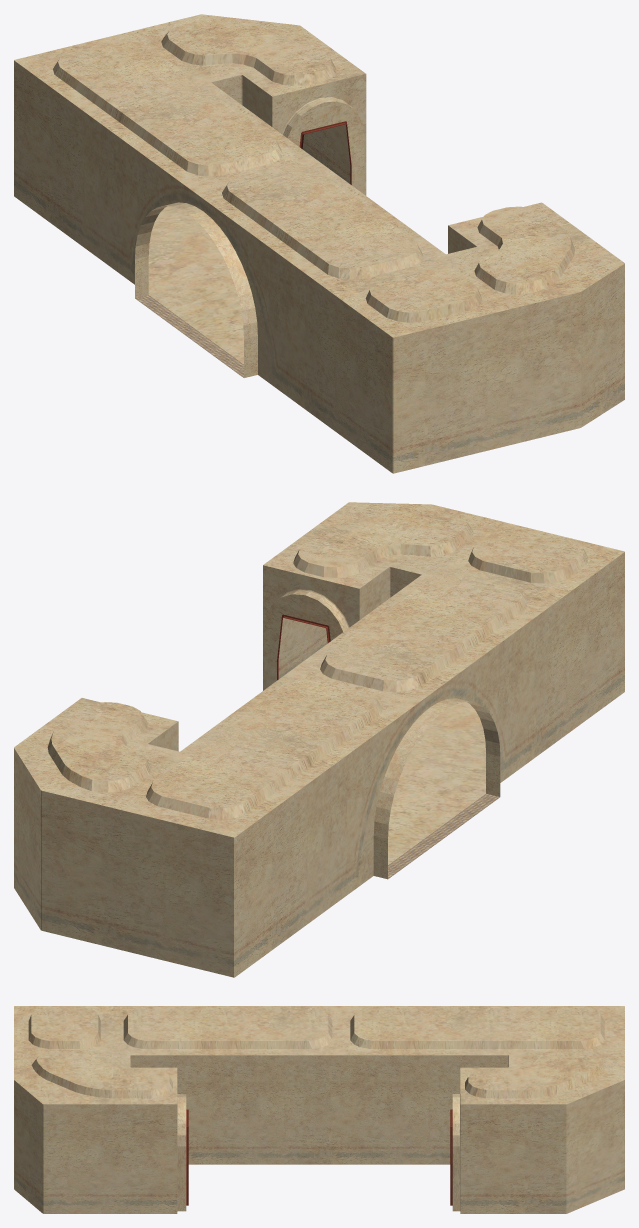
Rendered from thm_tato_cantina_r10_office_hallway_mesh_r10.fbx.
3 views of the same model, one above another, from view 1: azimuth 30°, elevation 25°; view 2: azimuth 150°, elevation 25°; view 3: azimuth 270°, elevation 25° (orthographic). The views are drawn at different scales.
Parts seen in each view (by area): view 1: mesh_node; view 2: mesh_node; view 3: mesh_node.
Boxes of the visible parts, bbox=[...] form: mesh_node: bbox=[14, 14, 624, 473]; mesh_node: bbox=[14, 502, 624, 977]; mesh_node: bbox=[14, 1006, 624, 1213].
Size of the model in its own units: 8.44 by 4.41 by 21.
